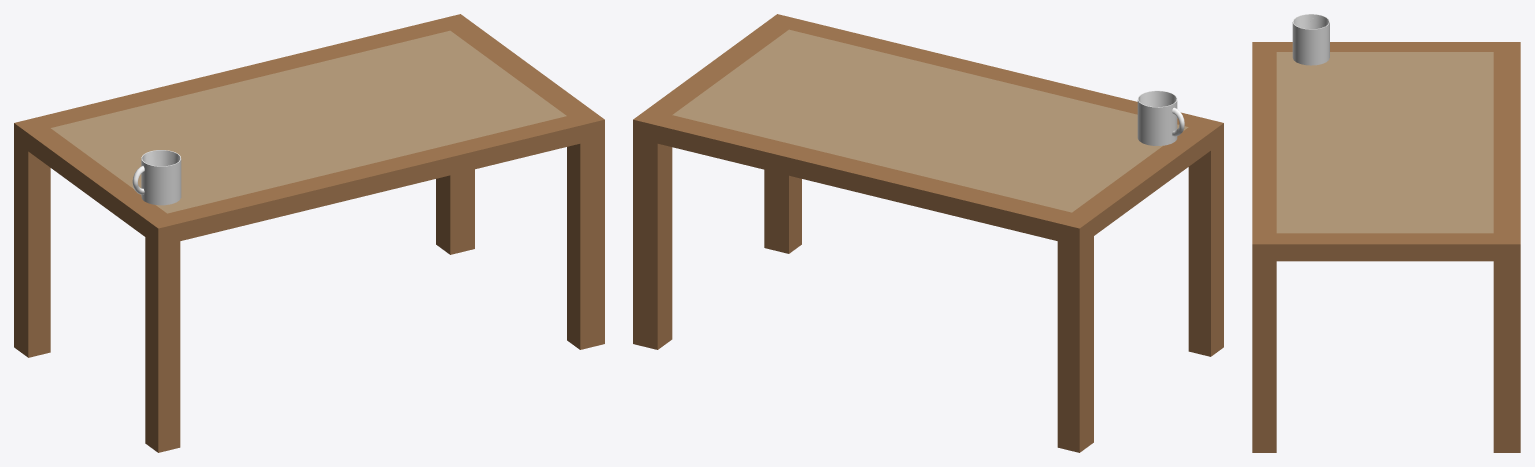
Rendered from workc bench.fbx.
3 views of the same model, side by side, from view 1: azimuth 30°, elevation 25°; view 2: azimuth 150°, elevation 25°; view 3: azimuth 270°, elevation 25° (orthographic). The views are drawn at different scales.
Visible parts, largest first — view 1: Desk.001, Desk.002, Desk, Desk.013; view 2: Desk.001, Desk.002, Desk, Desk.013; view 3: Desk.002, Desk.001, Desk, Desk.013.
Boxes of the visible parts, bbox=[...] form: Desk.001: bbox=[14, 14, 604, 452]; Desk.002: bbox=[51, 30, 566, 213]; Desk: bbox=[141, 158, 181, 205]; Desk.013: bbox=[132, 150, 180, 194]; Desk.001: bbox=[633, 14, 1223, 452]; Desk.002: bbox=[672, 29, 1188, 212]; Desk: bbox=[1137, 100, 1177, 145]; Desk.013: bbox=[1137, 90, 1184, 136]; Desk.002: bbox=[1276, 52, 1493, 233]; Desk.001: bbox=[1252, 42, 1520, 452]; Desk: bbox=[1292, 22, 1329, 65]; Desk.013: bbox=[1293, 14, 1329, 29].
Bounding box in the file's own units: 97.78 × 55.02 × 54.72.
